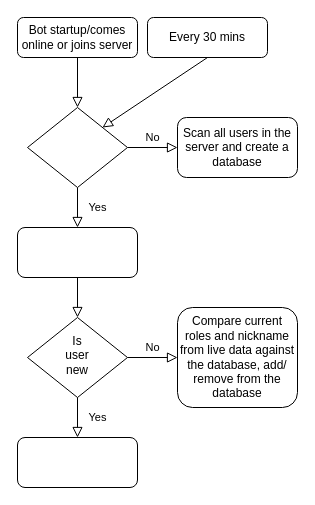
This 315x505 diagram has some shape labels left out. Each missing label, with the box of its shape:
Add a new user entry to the database with nicknames and roles: (16, 436, 138, 488)
Is database present: (26, 106, 128, 188)
Scan all users on the server and compare them to the database: (16, 226, 138, 278)
